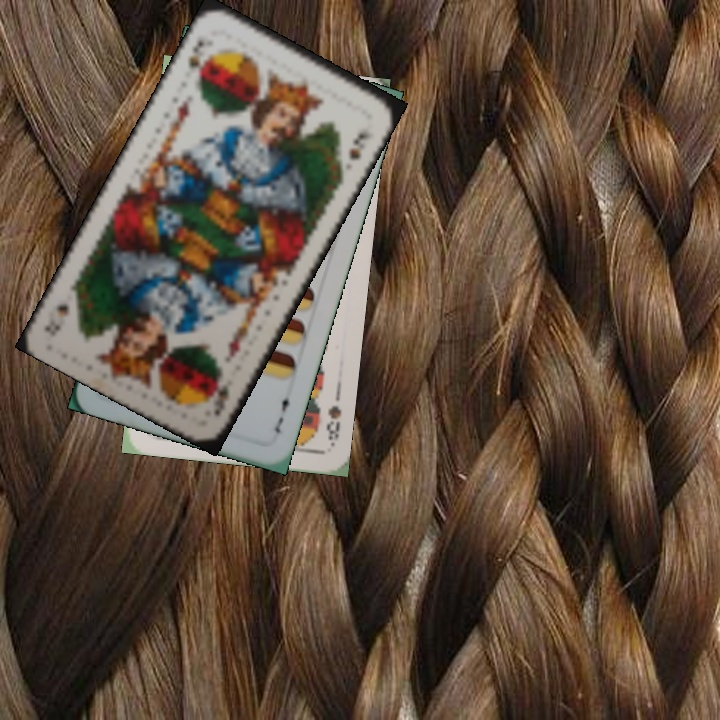E7: (270, 387, 295, 436)
S8: (322, 401, 344, 449)
SK: (183, 35, 213, 84), (205, 382, 233, 418)
